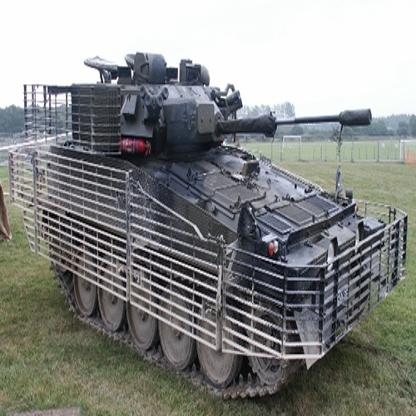Tank: (6, 46, 416, 401)
